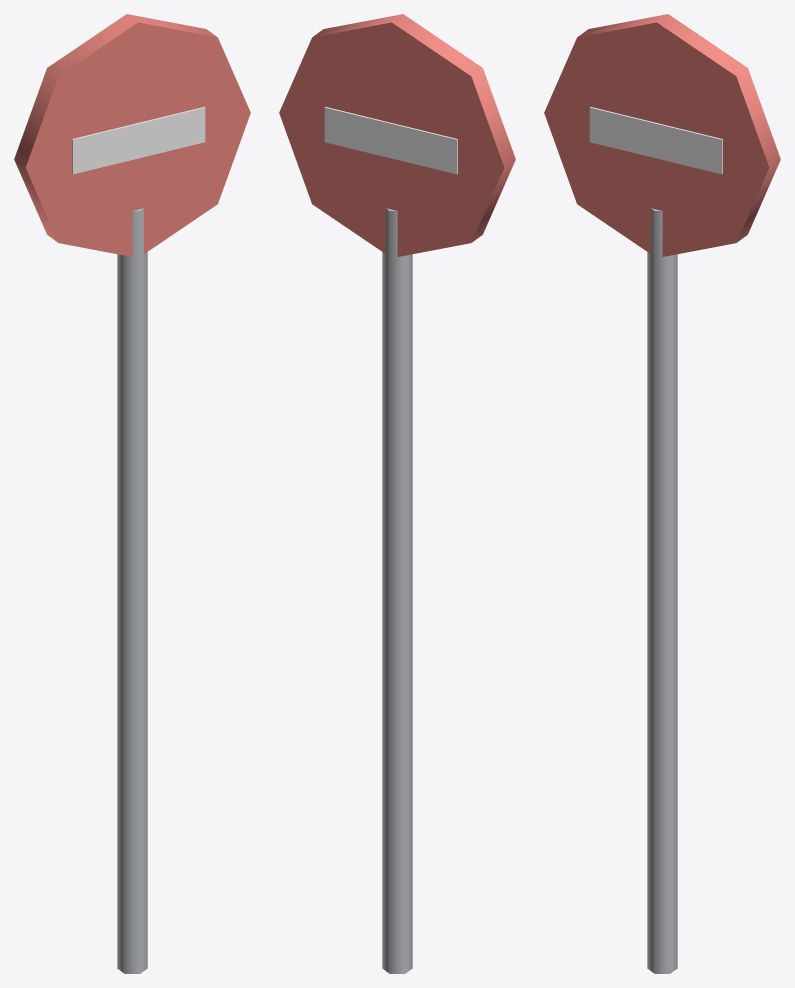
Rendered from rambu0.glb.
3 renders of one model, left to right at view 1: azimuth 30°, elevation 25°; view 2: azimuth 150°, elevation 25°; view 3: azimuth 330°, elevation 25°, orthographic.
Visible parts, largest first — view 1: rambu0; view 2: rambu0; view 3: rambu0.
Boxes of the visible parts, left/top/right/bottom form: rambu0: left=14, top=14, right=250, bottom=973; rambu0: left=279, top=14, right=515, bottom=973; rambu0: left=544, top=14, right=780, bottom=973.
Size of the model in its own units: 0.34 by 1.37 by 0.04.
